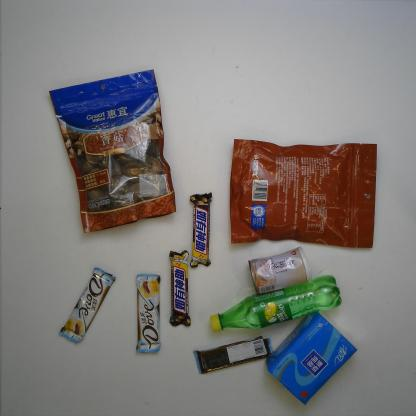Canned Food: (248, 244, 312, 295)
Chocolate: (57, 267, 114, 343), (194, 336, 275, 376), (134, 272, 161, 354), (188, 191, 214, 266), (168, 247, 191, 327)
Dried Food: (48, 66, 178, 232), (231, 136, 379, 250)
Drink: (208, 274, 342, 332)
Tissue: (265, 309, 358, 405)
